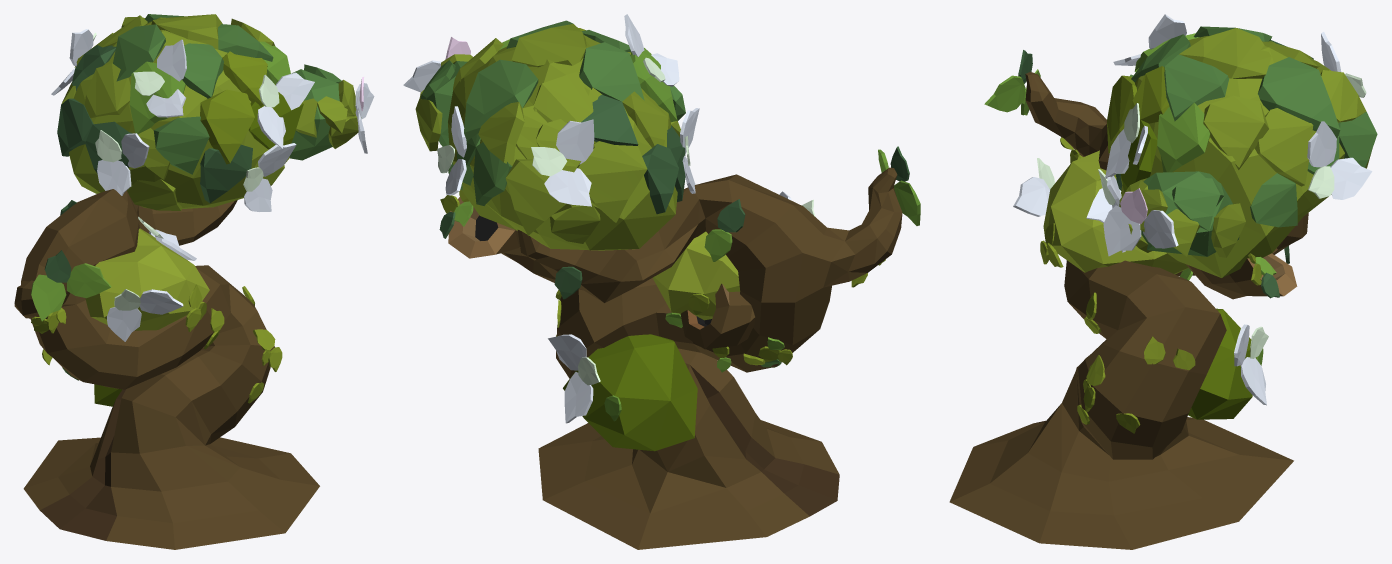
File: EM_Tree4a.fbx
3 views of the same model, side by side, from view 1: azimuth 30°, elevation 25°; view 2: azimuth 150°, elevation 25°; view 3: azimuth 270°, elevation 25° (orthographic). The views are drawn at different scales.
Parts seen in each view (by area): view 1: EM_Tree4a_LOD0; view 2: EM_Tree4a_LOD0; view 3: EM_Tree4a_LOD0.
Boxes of the visible parts, x1,y1,x2,y2 form: EM_Tree4a_LOD0: (14,14,374,549); EM_Tree4a_LOD0: (403,14,920,549); EM_Tree4a_LOD0: (949,14,1377,549).
Size of what is drawn, in the model's own units: 4.94 by 4.97 by 3.98.
